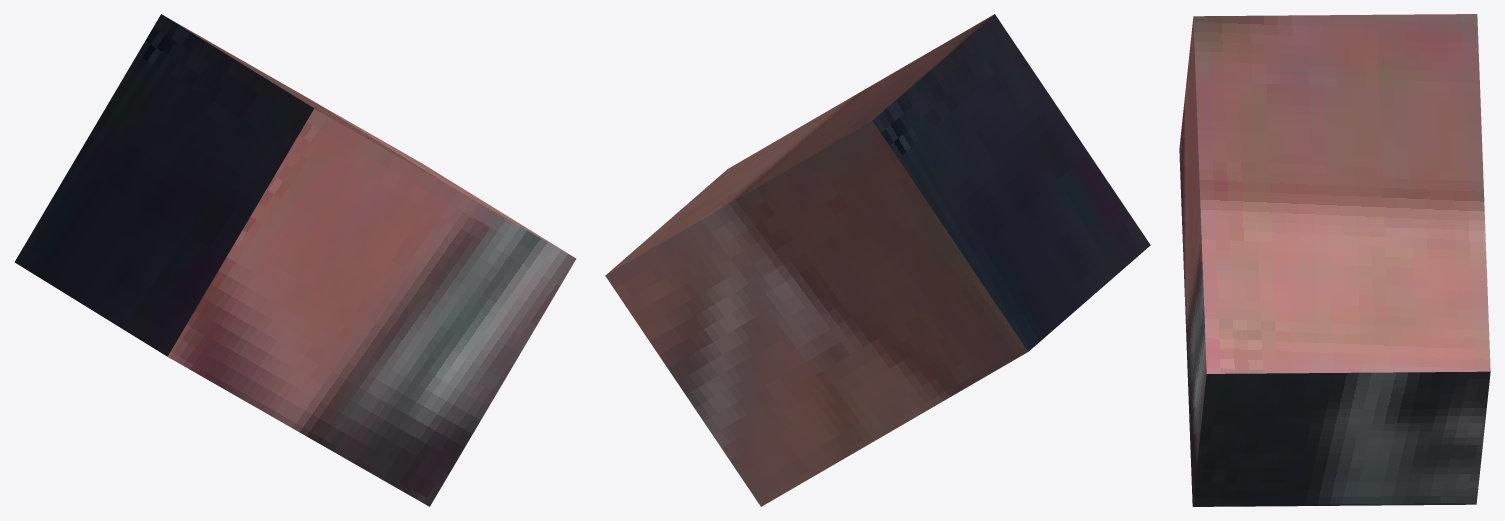
The picture shows the model from 3 angles, left to right: view 1: azimuth 30°, elevation 25°; view 2: azimuth 150°, elevation 25°; view 3: azimuth 270°, elevation 25°; orthographic projection. The views are drawn at different scales.
Visible parts, largest first — view 1: BAG_0599100010059663; view 2: BAG_0599100010059663; view 3: BAG_0599100010059663.
Boxes of the visible parts, x1,y1,x2,y2 form: BAG_0599100010059663: (14, 14, 576, 506); BAG_0599100010059663: (605, 14, 1150, 506); BAG_0599100010059663: (1179, 14, 1490, 506).
Size of the model in its own units: 4.15 by 3.91 by 2.52.
2 materials, 1 textured.
